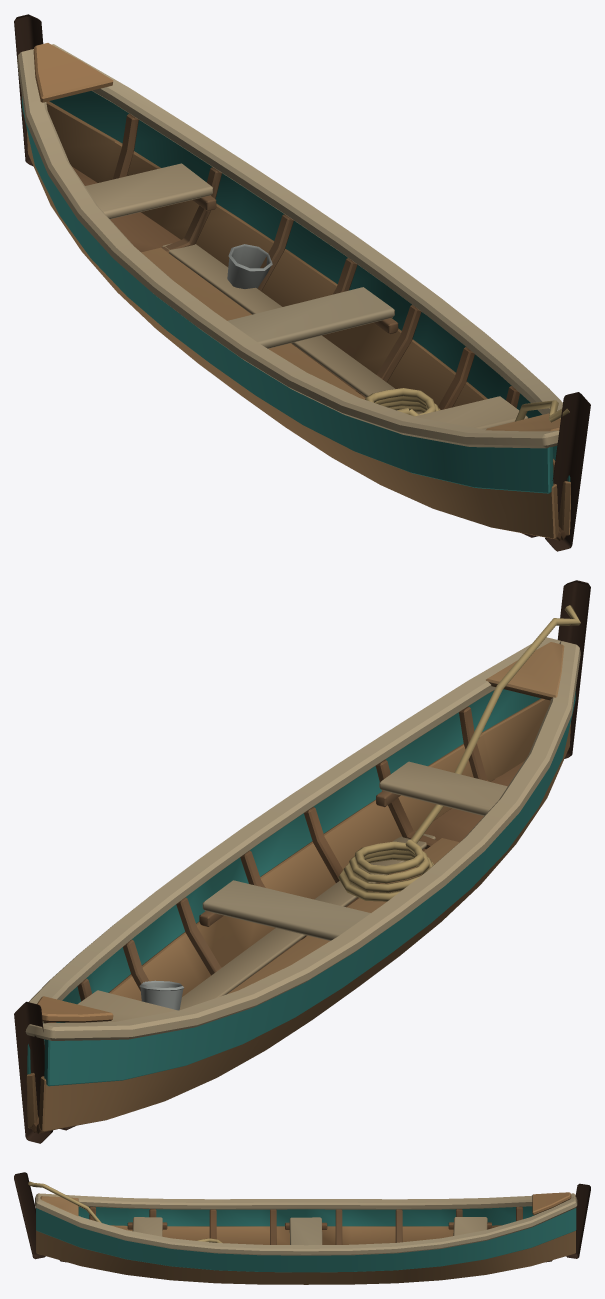
File: canoe.glb
3 renders of one model, top to bottom at view 1: azimuth 30°, elevation 25°; view 2: azimuth 150°, elevation 25°; view 3: azimuth 270°, elevation 25°, orthographic. The views are drawn at different scales.
Visible parts, largest first — view 1: canoe; view 2: canoe; view 3: canoe.
Boxes of the visible parts, x1,y1,x2,y2 form: canoe: (14,14,590,551); canoe: (14,580,590,1143); canoe: (14,1172,590,1284).
Size of the model in its own units: 0.98 by 0.8881 by 4.64.
